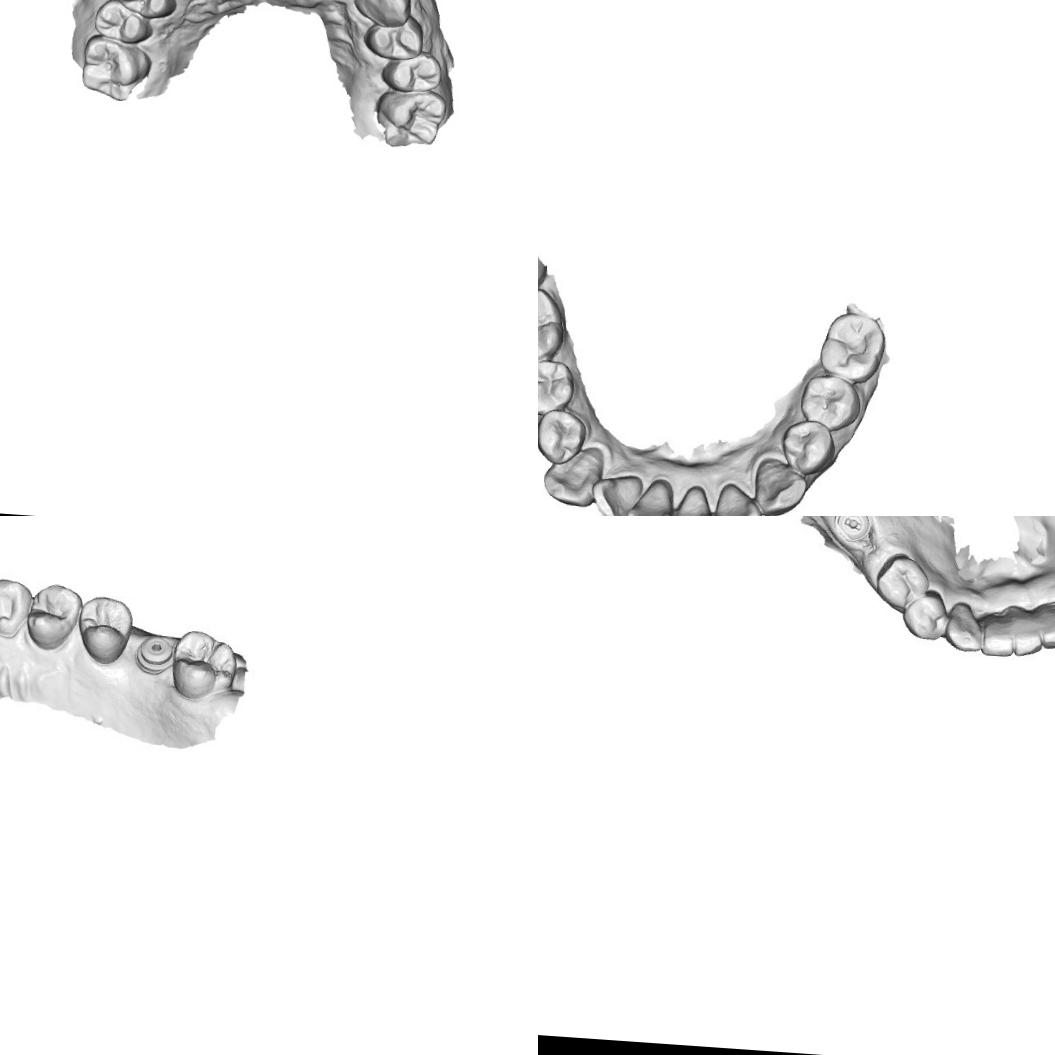canine: (540, 444, 600, 510), (750, 455, 809, 516), (946, 602, 988, 652), (0, 573, 32, 638), (350, 0, 413, 28)
implant: (132, 630, 175, 676)
implant_minus: (830, 516, 874, 546)
incisor: (707, 478, 763, 516), (589, 473, 636, 516), (623, 480, 674, 516), (982, 610, 1018, 660), (1010, 608, 1047, 654), (665, 484, 716, 516), (1038, 596, 1055, 649)
molar: (77, 32, 154, 105), (167, 626, 239, 702), (816, 310, 888, 384), (370, 86, 448, 151), (538, 283, 568, 376)
premolar: (74, 588, 134, 667), (22, 579, 83, 652), (796, 371, 862, 430), (776, 417, 837, 478), (378, 46, 446, 95), (361, 11, 425, 61), (874, 552, 927, 607), (538, 407, 588, 465), (91, 0, 153, 45), (538, 354, 578, 419), (900, 596, 944, 640), (113, 0, 178, 19)
